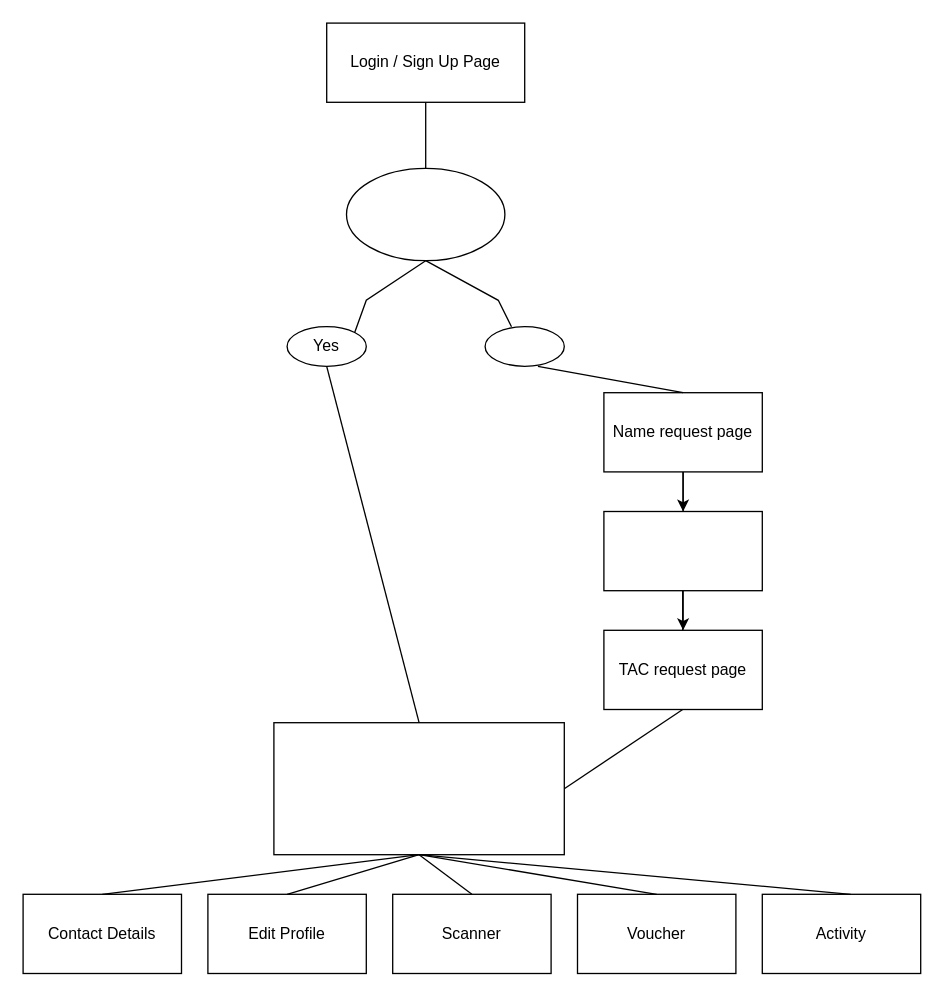
Some shapes in this 944 by 997 pixel diagram are drawn without their labels. Here are the shapes that lost their labels. From the top down, the centre of each, then its label:
At point 425,214: "Does user have account yet?".
At point 524,345: "No".
At point 682,550: "phone request page".
At point 418,788: "Index Page".
